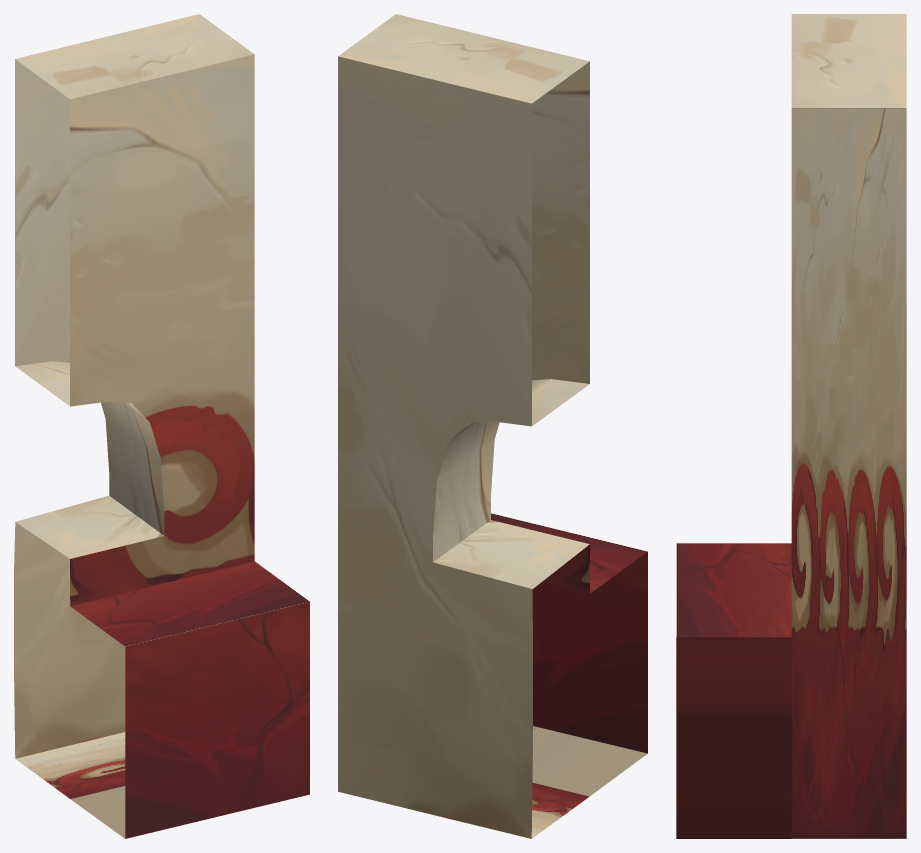
The model's file is mini_fenetre2.fbx.
The picture shows the model from 3 angles, left to right: view 1: azimuth 30°, elevation 25°; view 2: azimuth 150°, elevation 25°; view 3: azimuth 270°, elevation 25°; orthographic projection. The views are drawn at different scales.
Visible parts, largest first — view 1: Box008; view 2: Box008; view 3: Box008.
Boxes of the visible parts, box(x1,y1,x2,y2) form: Box008: box(14, 14, 309, 838); Box008: box(338, 14, 647, 838); Box008: box(676, 14, 906, 838).
Bounding box in the file's own units: 485 × 1750 × 500.
